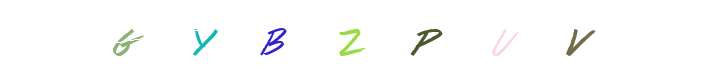B: (234, 0, 314, 80)
G: (163, 0, 243, 80)
P: (310, 0, 390, 80)
U: (318, 0, 398, 80)
V: (453, 0, 533, 80)
Y: (200, 0, 280, 80)
Z: (253, 0, 333, 80)
